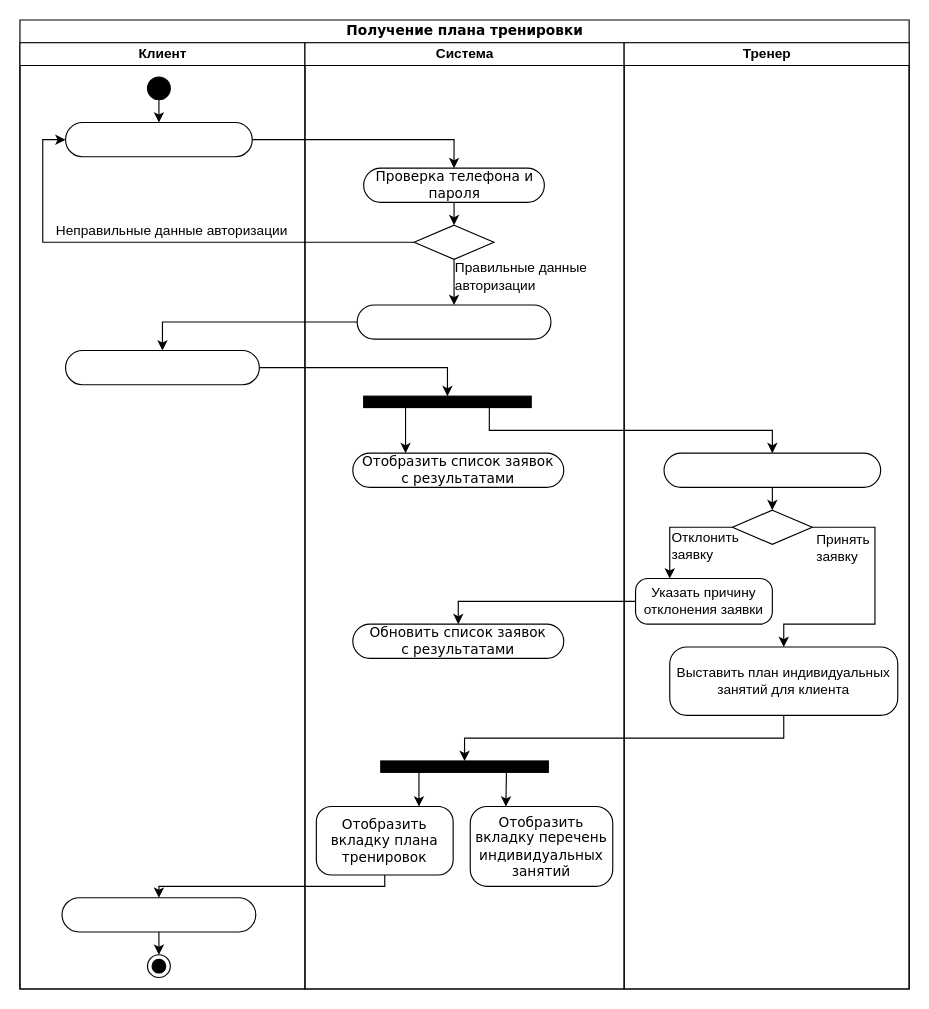
Image size: 929x1009. Some labels were removed from this diagram. Here are the shapes that lost their labels. From the top down, the centre of each, then its label:
At point (158, 139): "Авторизироваться в системе".
At point (453, 321): "Отобразить список тренеров".
At point (161, 367): "Выбрать тренера и отправить заявку".
At point (772, 469): "Посмотреть новые заявки".
At point (158, 914): "Посмотреть план тренировок".
